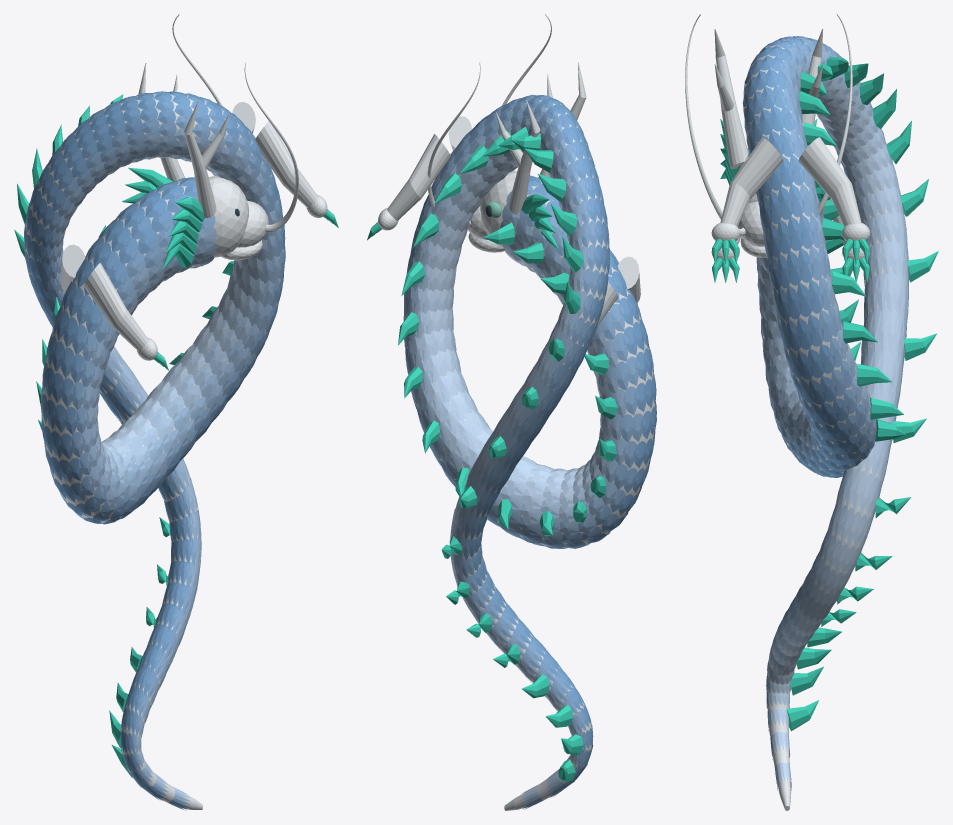
The model's file is Aoki_Odo_Dragon_Silver_Blue_v3.glb.
3 renders of one model, left to right at view 1: azimuth 30°, elevation 25°; view 2: azimuth 150°, elevation 25°; view 3: azimuth 270°, elevation 25°, orthographic. The views are drawn at different scales.
Parts seen in each view (by area): view 1: world; view 2: world; view 3: world.
Boxes of the visible parts, <box> form: world: <box>14,14,338,810</box>; world: <box>367,14,656,810</box>; world: <box>685,14,938,810</box>.
Bounding box in the file's own units: 1.95 × 5.71 × 1.65.
